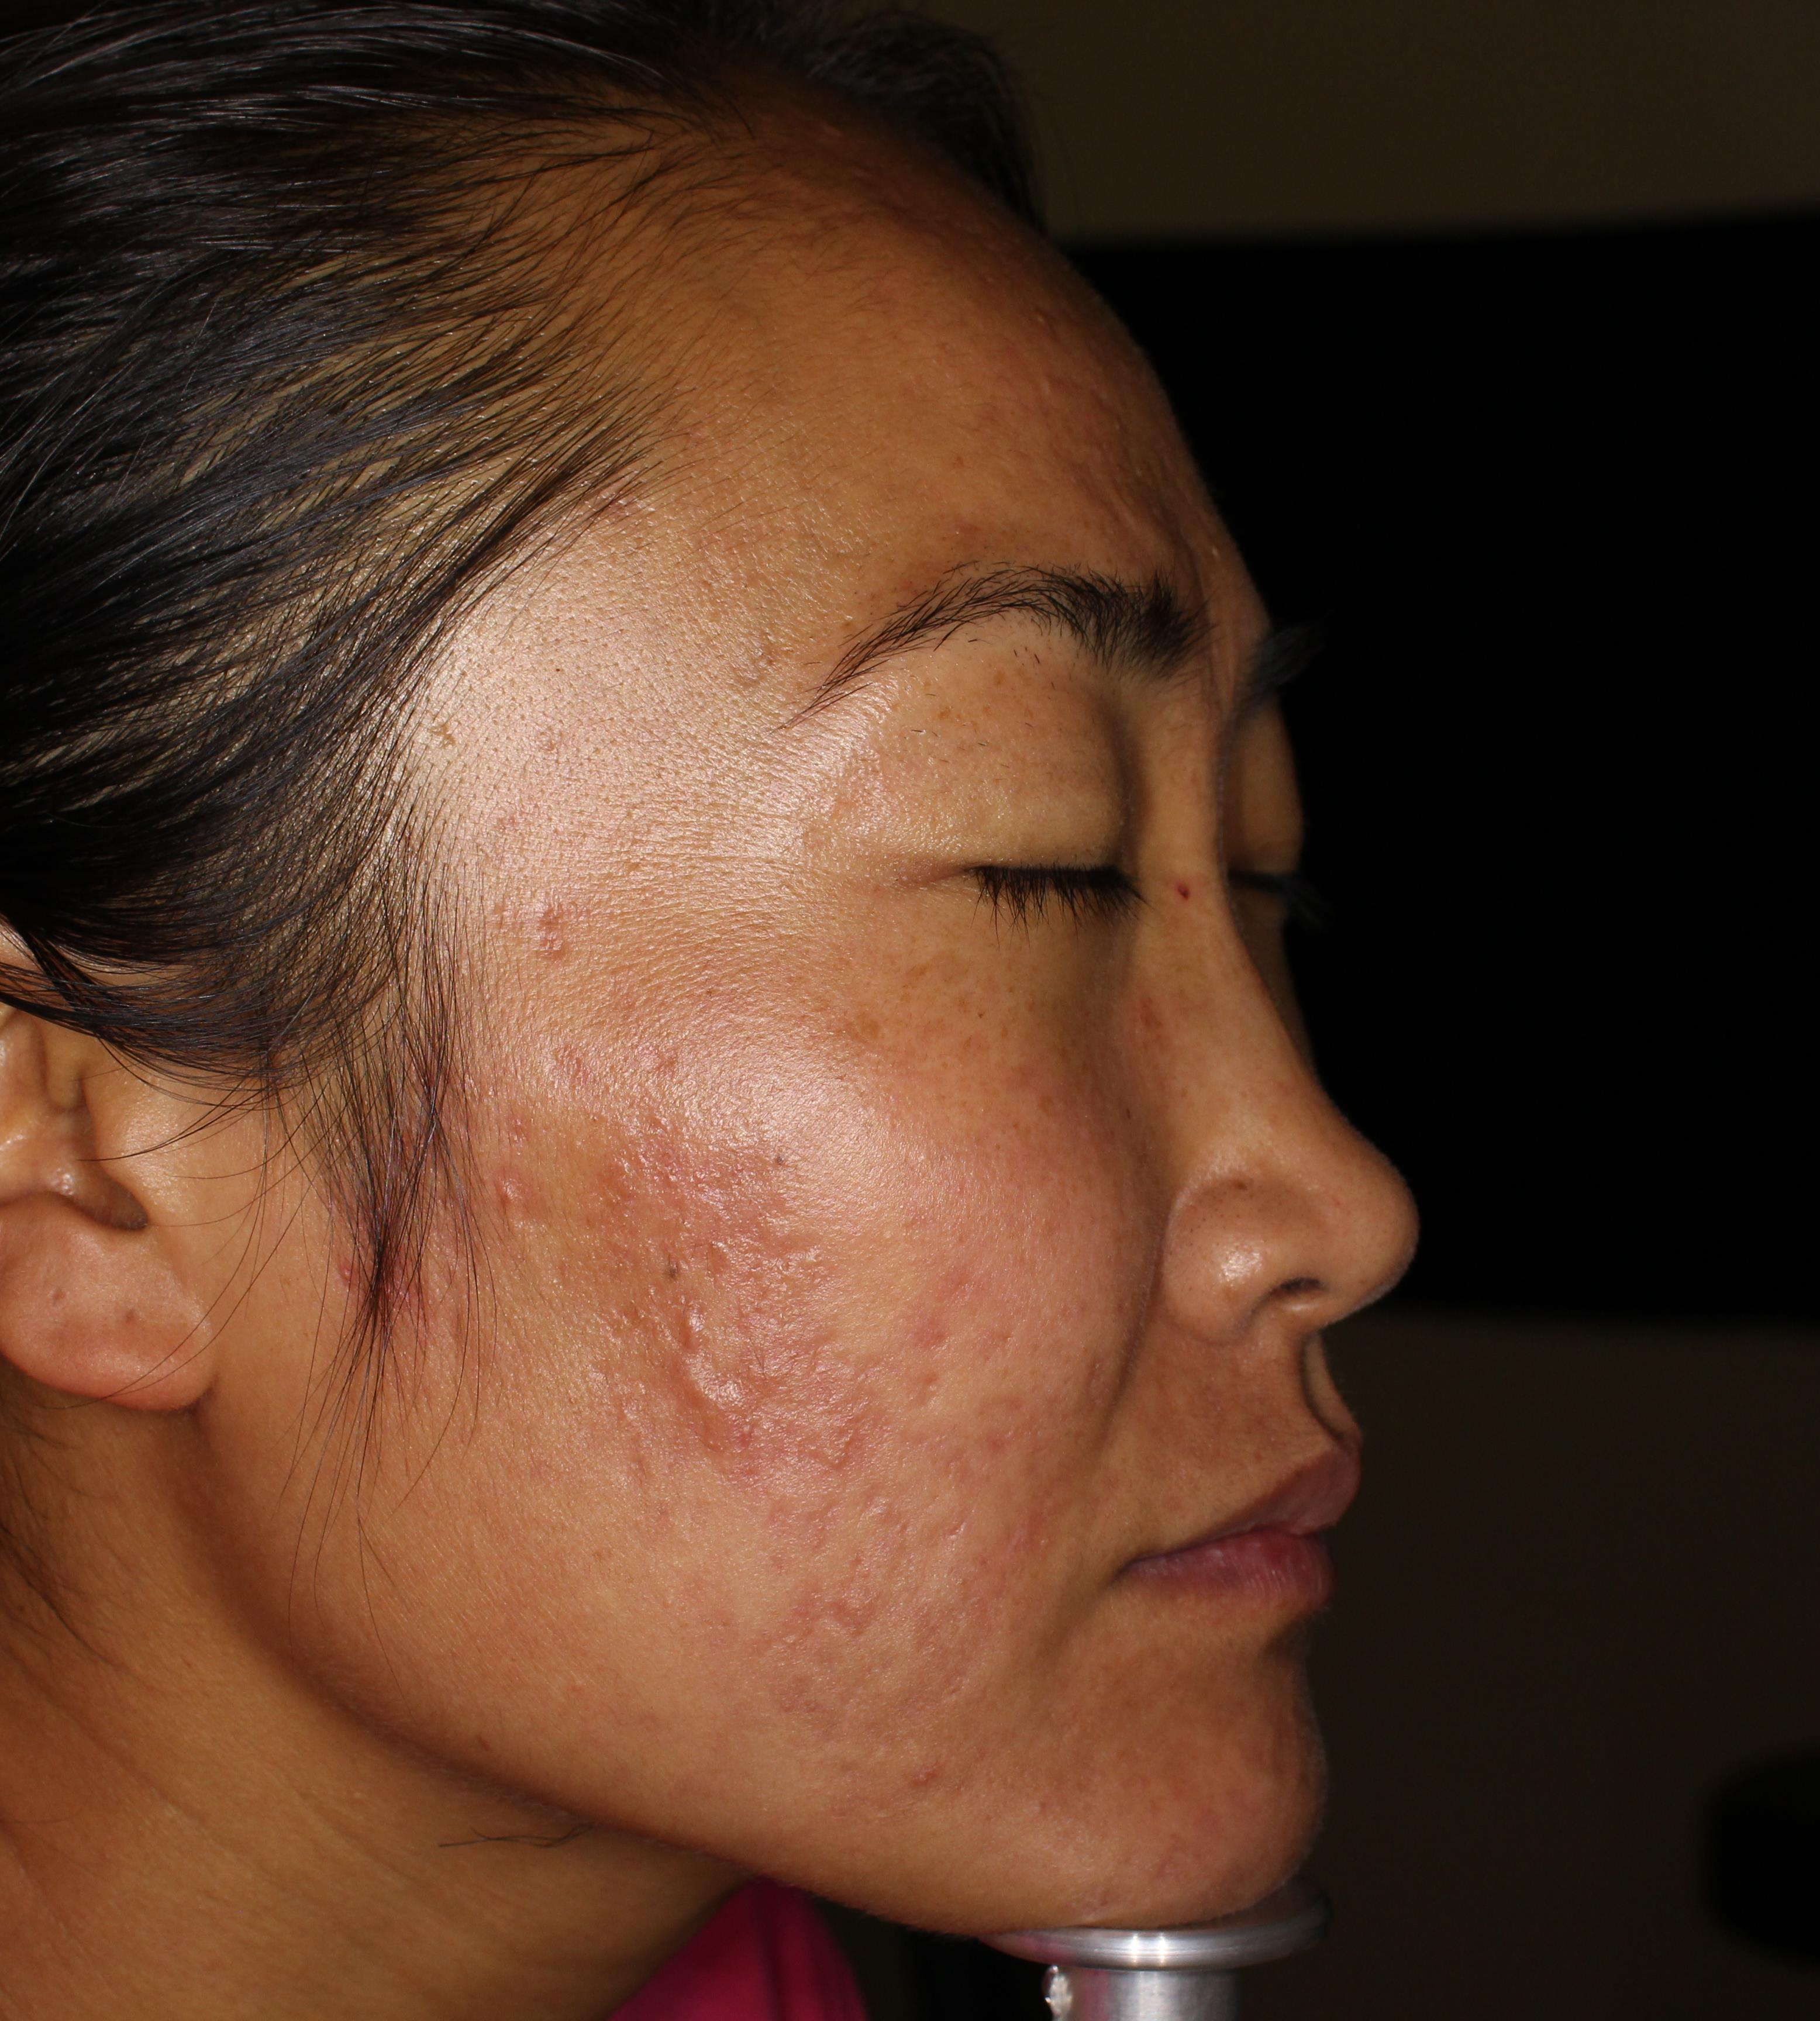fore: (467, 1127, 539, 1231), (502, 895, 583, 967), (740, 1185, 812, 1262), (580, 1133, 643, 1213), (669, 1145, 727, 1226), (892, 1737, 950, 1814), (812, 1571, 875, 1638), (699, 1387, 745, 1473), (754, 1326, 799, 1406), (661, 1347, 704, 1406), (669, 1285, 727, 1329)
